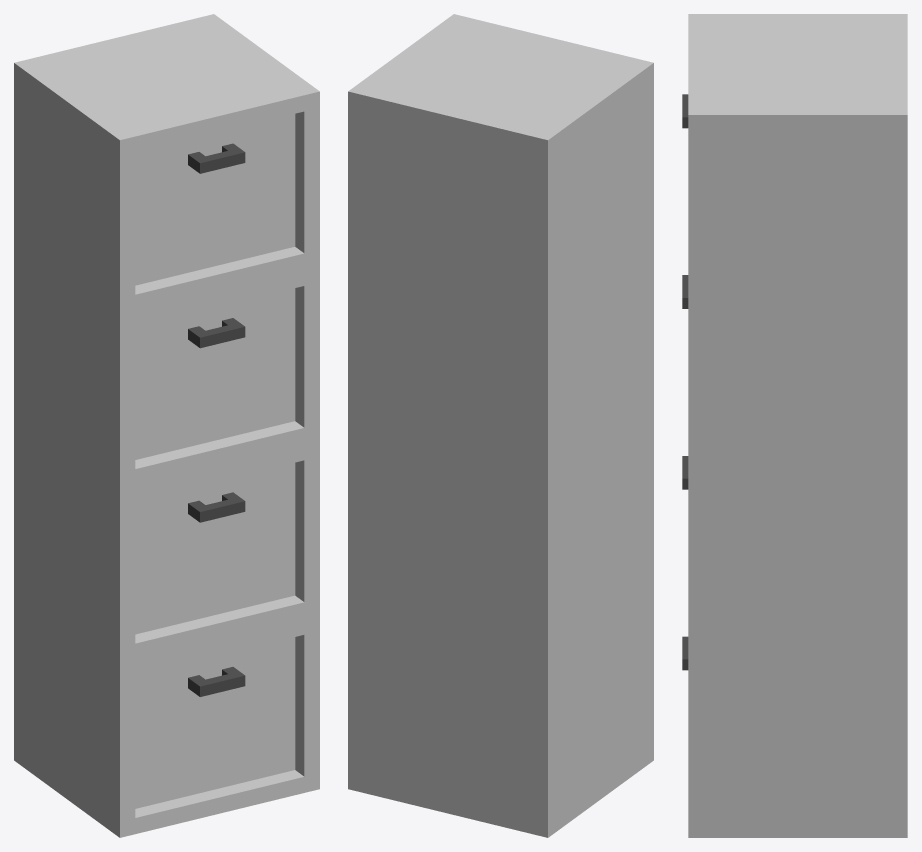
The model's file is FileCabinet.fbx.
3 views of the same model, side by side, from view 1: azimuth 30°, elevation 25°; view 2: azimuth 150°, elevation 25°; view 3: azimuth 270°, elevation 25° (orthographic). The views are drawn at different scales.
Parts seen in each view (by area): view 1: Cabinet; view 2: Cabinet; view 3: Cabinet.
Part boxes in pixels (bbox=[...]): Cabinet: bbox=[14, 14, 319, 837]; Cabinet: bbox=[348, 14, 653, 837]; Cabinet: bbox=[682, 14, 907, 837].
Bounding box in the file's own units: 110 × 368 × 104.
